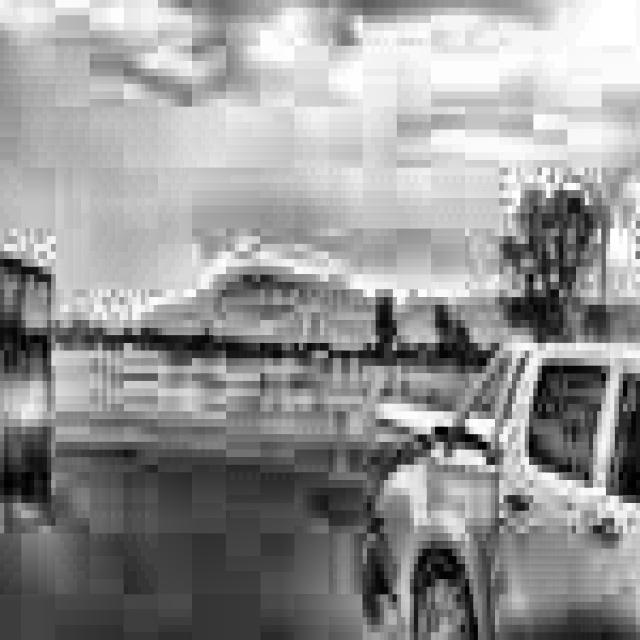light_vehicle: (328, 266, 640, 640)
